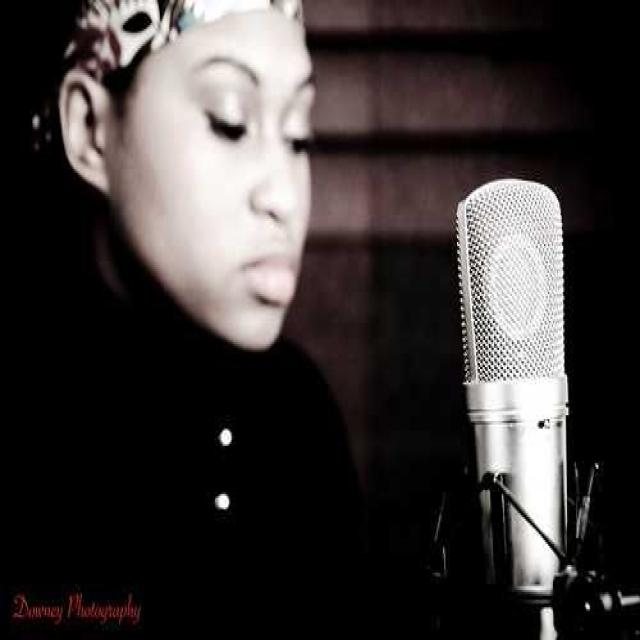microphone: (456, 185, 568, 606)
